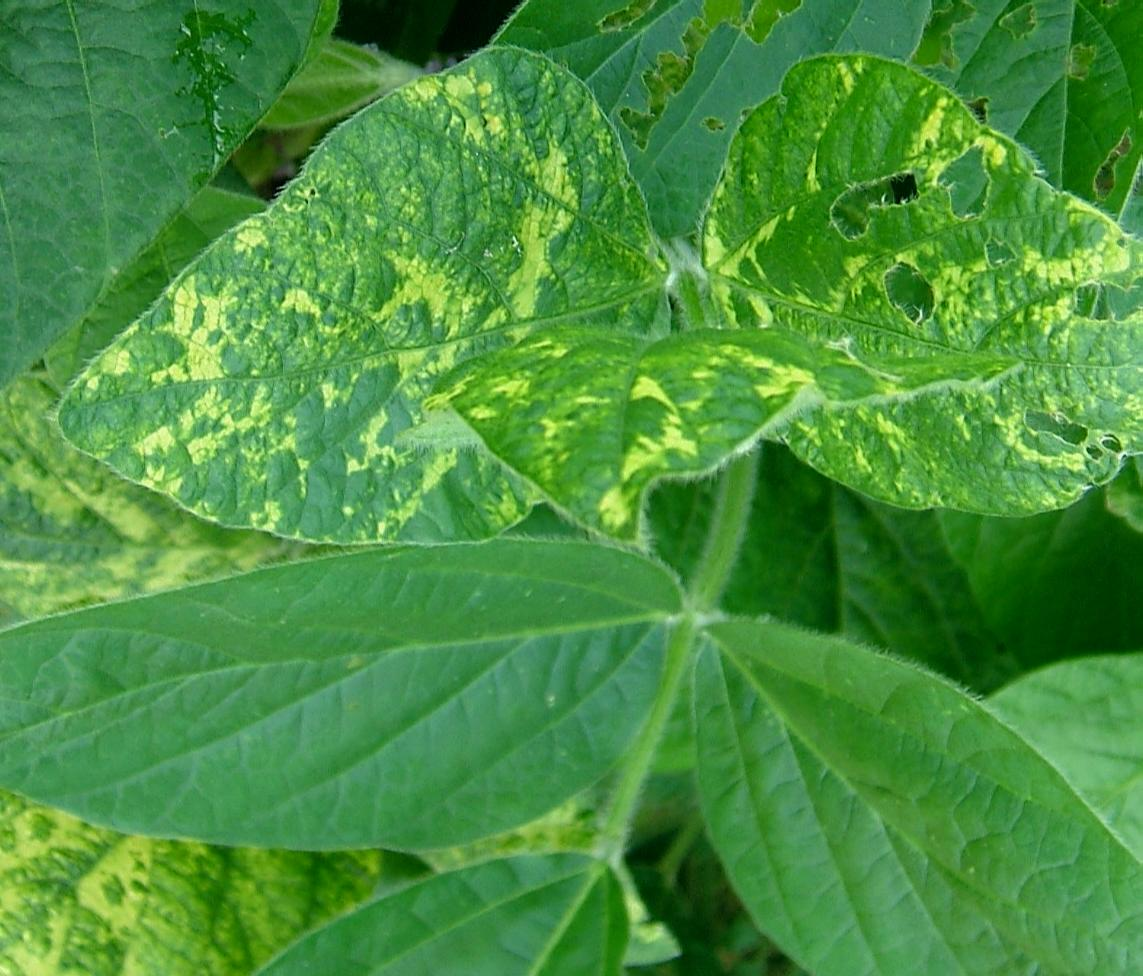Tomato leaf: (0, 532, 685, 863)
Tomato leaf mosaic virus: (89, 62, 661, 522), (703, 45, 1143, 542)
